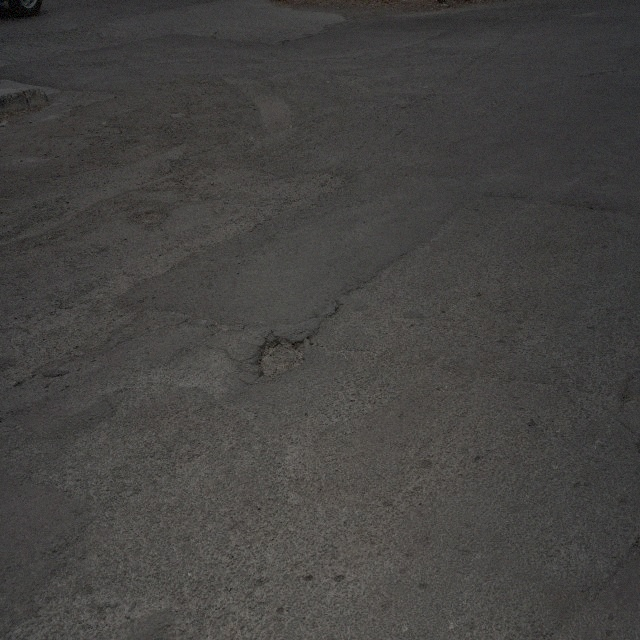pothole: (254, 329, 306, 383)
